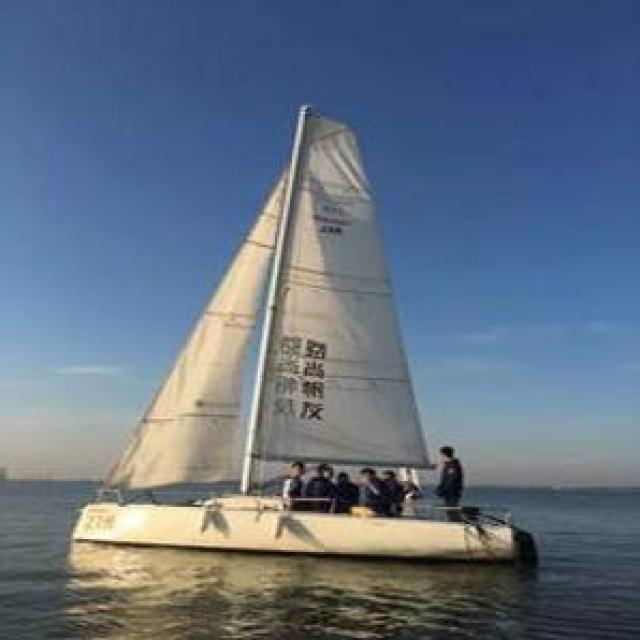sailboat: (72, 101, 531, 580)
